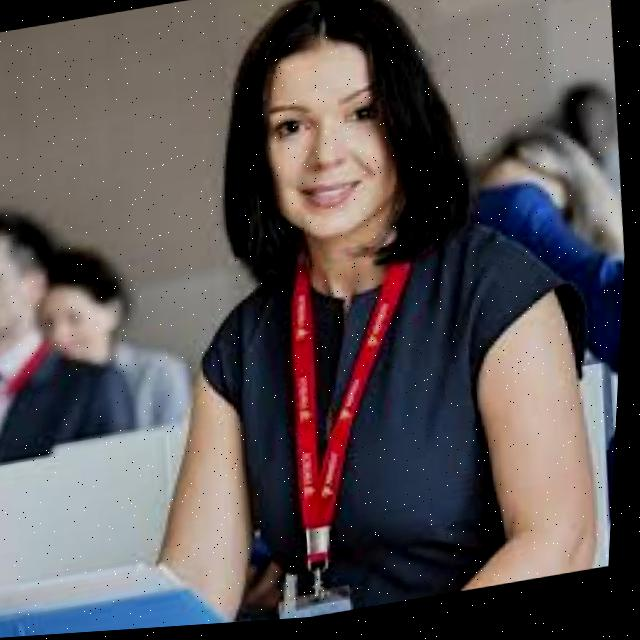id_card: (242, 237, 453, 626)
